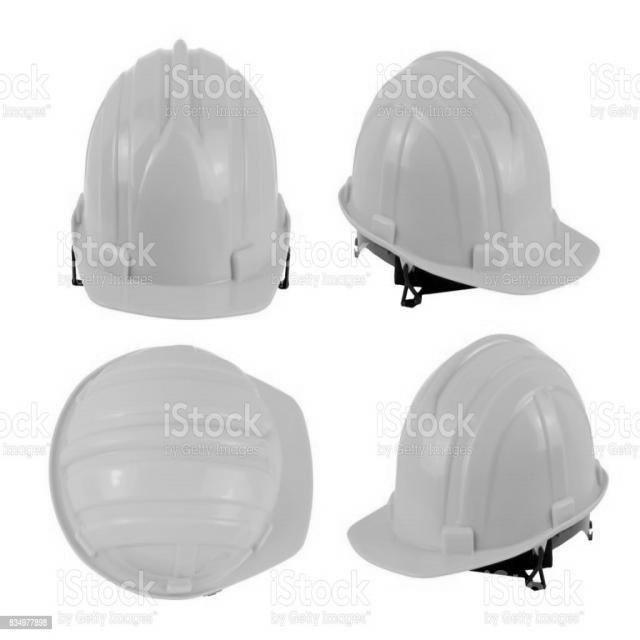safety_helmet: (48, 345, 314, 602), (346, 334, 611, 588), (356, 51, 602, 309)
